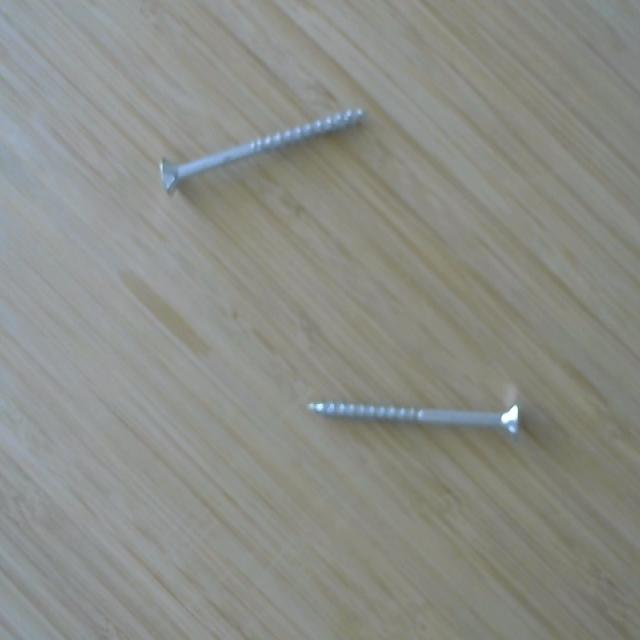Long screw: (153, 92, 376, 205), (305, 392, 526, 442)
